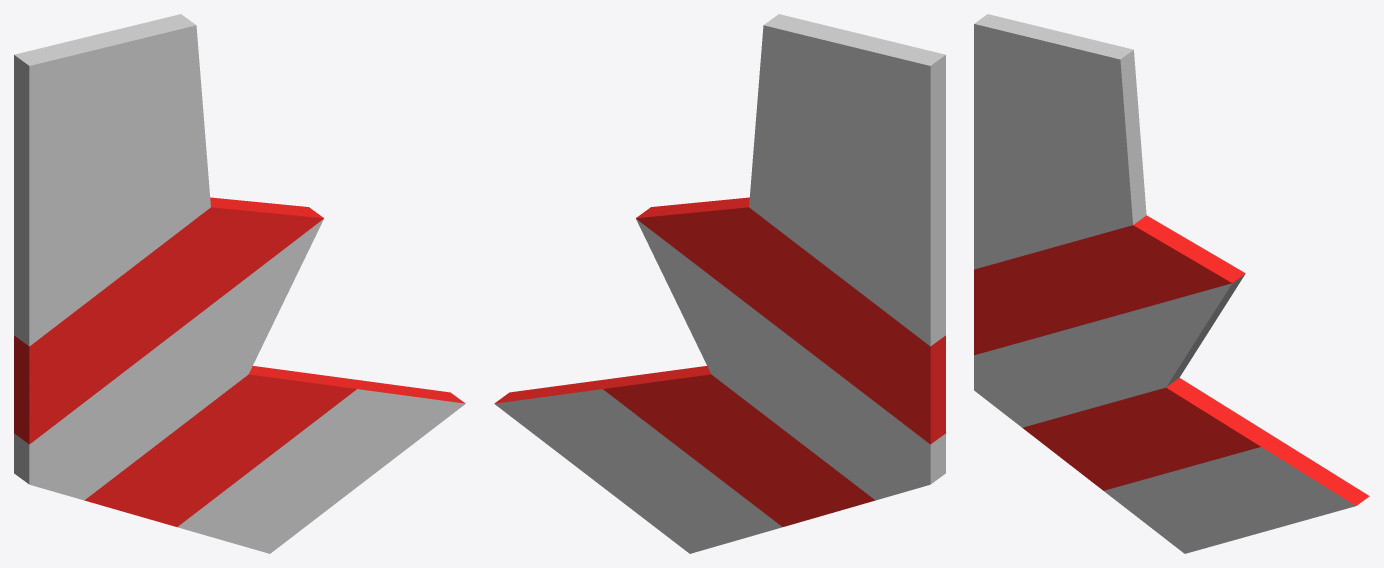
The model's file is SBTopLeft.fbx.
3 renders of one model, left to right at view 1: azimuth 30°, elevation 25°; view 2: azimuth 150°, elevation 25°; view 3: azimuth 330°, elevation 25°, orthographic. The views are drawn at different scales.
Parts seen in each view (by area): view 1: Plane.045; view 2: Plane.045; view 3: Plane.045.
Part boxes in pixels (left/top/right/bottom): Plane.045: left=14, top=14, right=465, bottom=553; Plane.045: left=494, top=14, right=945, bottom=553; Plane.045: left=974, top=14, right=1369, bottom=553.
Size of the model in its own units: 2 by 2.39 by 0.1223.
